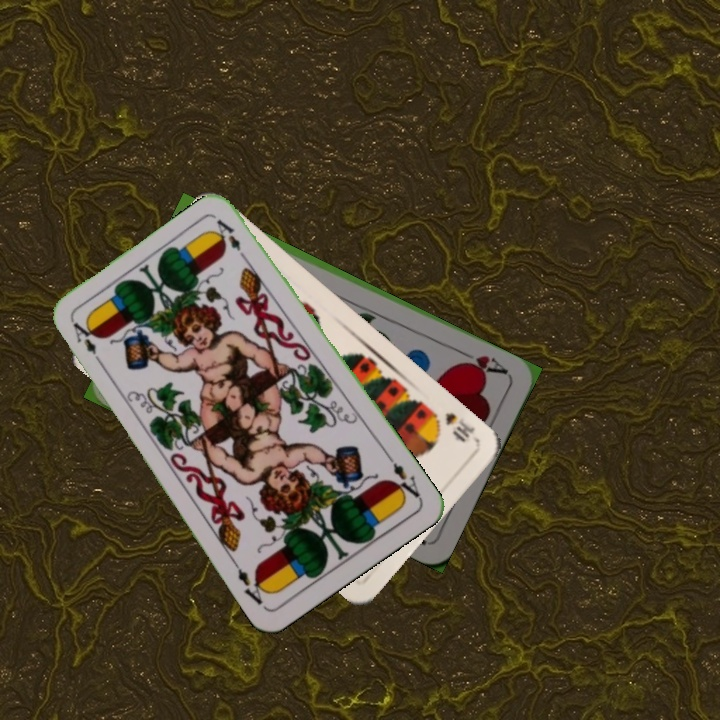EA: (383, 451, 424, 503), (68, 318, 107, 370)
HA: (455, 346, 511, 378)
S10: (440, 408, 478, 445)
